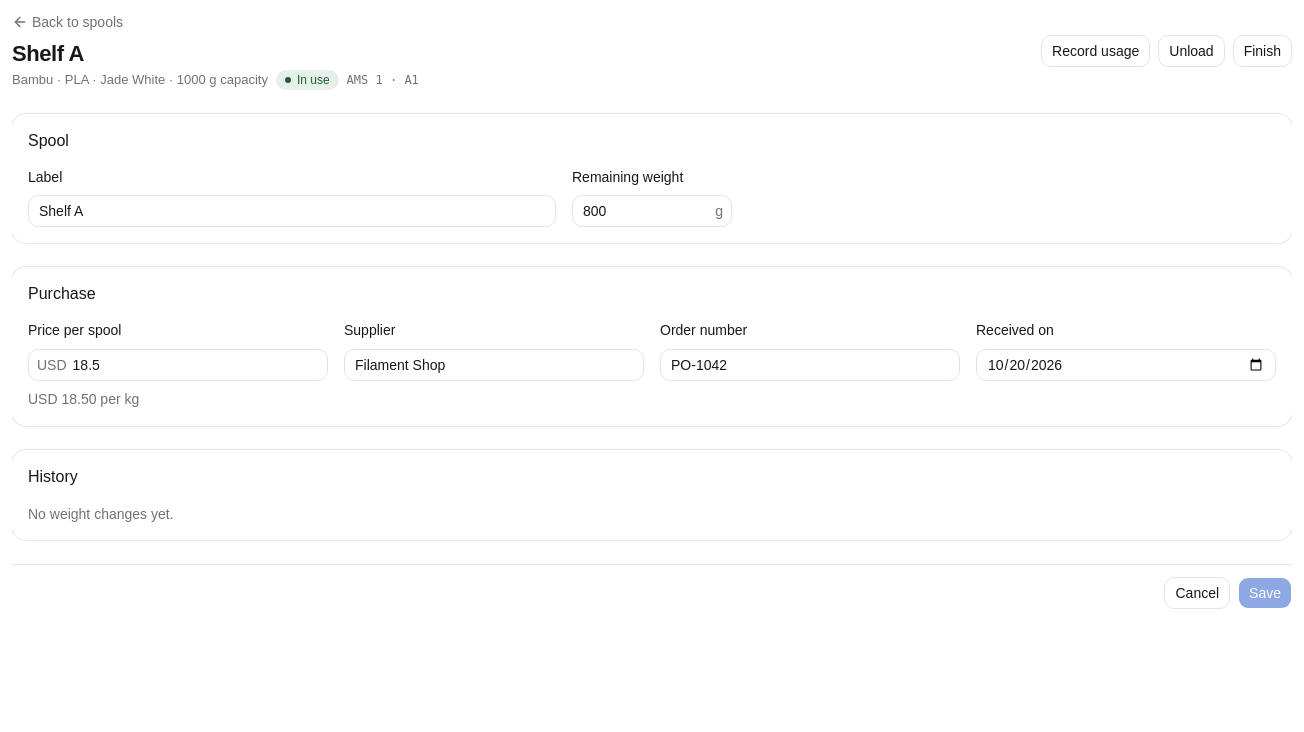
SpoolDetailPage › purchase info › saves a changed supplier with the label and weight in one PUT
This screenshot has width=1304, height=732.
Replace the text in the field labelled "Supplier" with "Other Shop" at (494, 364), box [344,348,644,380]
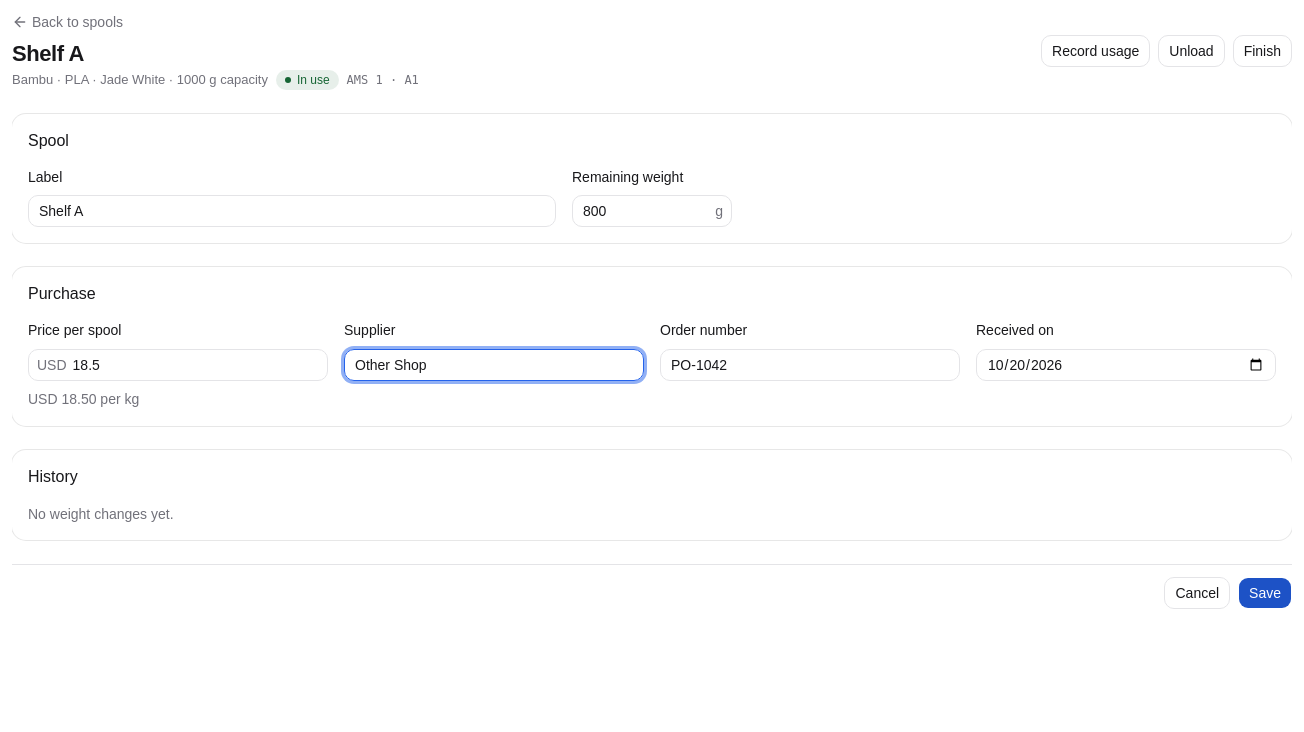
Click the button "Save" at (1265, 592), box [1238,576,1292,608]
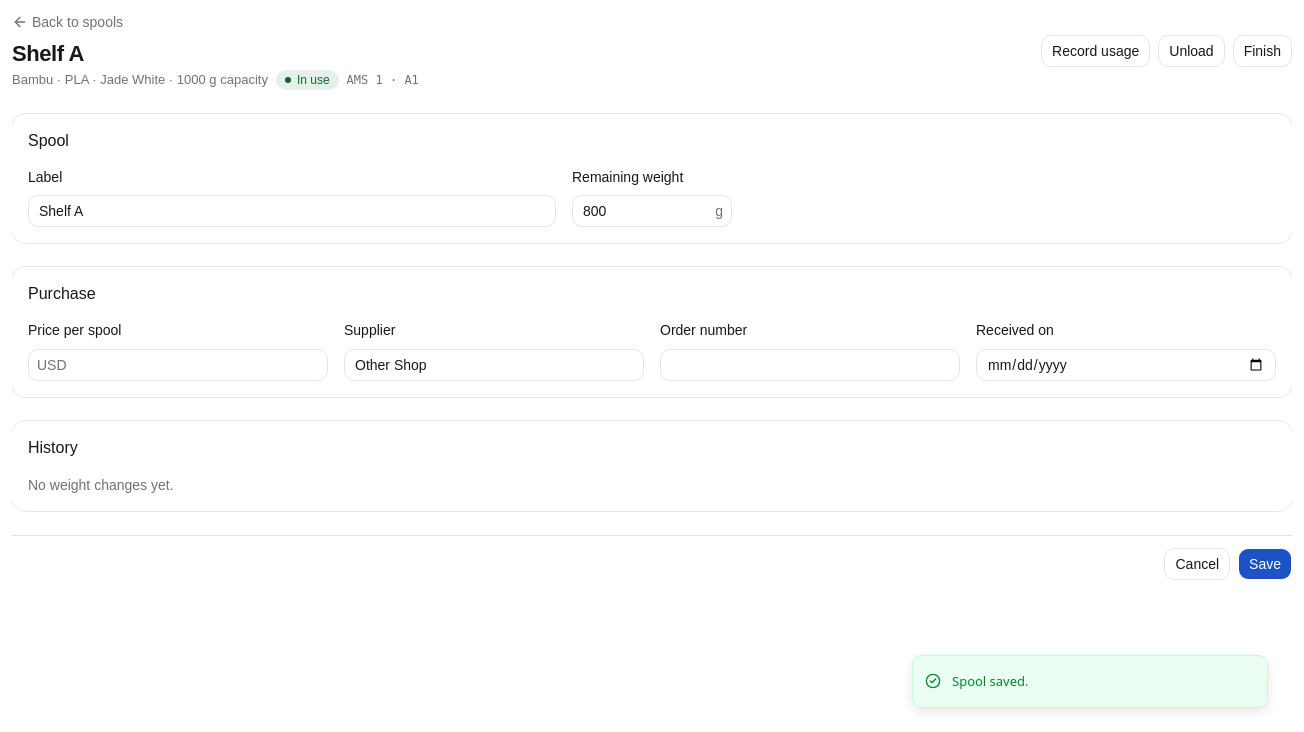
Now the text "Spool saved." is shown, box [952,672,1028,691]
